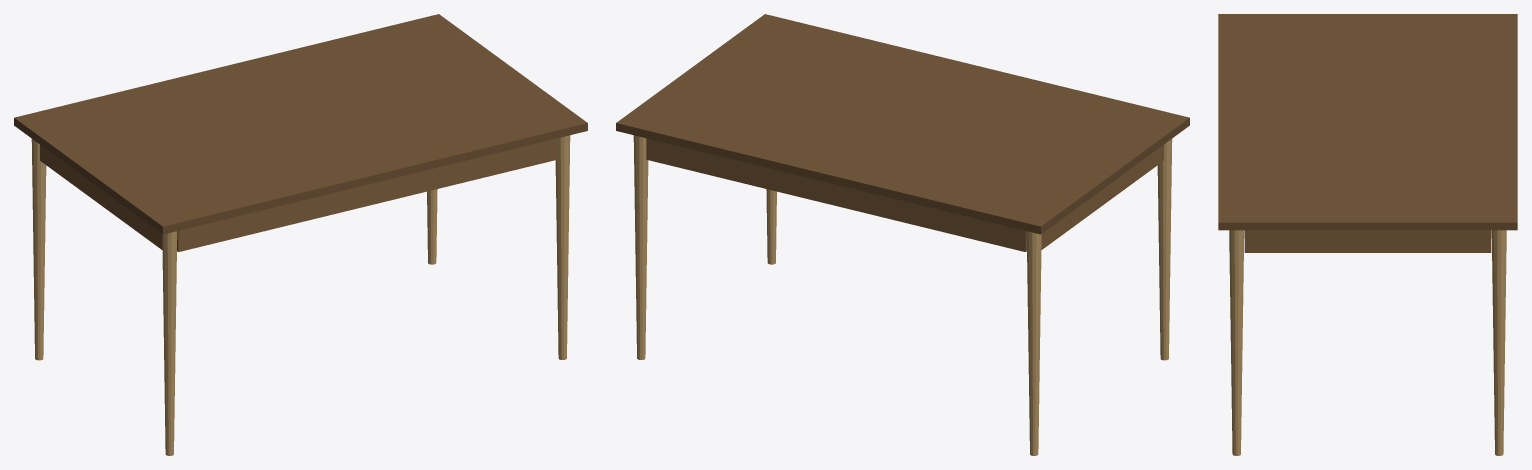
The model's file is ATL-DTB-4-seat.glb.
3 views of the same model, side by side, from view 1: azimuth 30°, elevation 25°; view 2: azimuth 150°, elevation 25°; view 3: azimuth 270°, elevation 25° (orthographic).
Parts seen in each view (by area): view 1: top:pbr, apron-f:pbr, leg-fl:pbr, leg-fr:pbr, leg-bl:pbr, apron-l:pbr, leg-br:pbr; view 2: top:pbr, apron-b:pbr, leg-bl:pbr, leg-br:pbr, leg-fl:pbr, apron-l:pbr, leg-fr:pbr; view 3: top:pbr, apron-r:pbr, leg-fr:pbr, leg-br:pbr.
Part boxes in pixels (x1,y1,x2,y2): top:pbr: (14,14,587,234); apron-f:pbr: (177,138,557,251); leg-fl:pbr: (162,231,177,455); leg-fr:pbr: (555,135,570,359); leg-bl:pbr: (31,139,46,360); apron-l:pbr: (40,145,162,249); leg-br:pbr: (427,189,437,264); top:pbr: (616,14,1189,234); apron-b:pbr: (646,138,1026,251); leg-bl:pbr: (1026,231,1041,455); leg-br:pbr: (633,135,648,359); leg-fl:pbr: (1157,139,1172,360); apron-l:pbr: (1041,145,1163,249); leg-fr:pbr: (766,189,776,264); top:pbr: (1218,14,1517,230); apron-r:pbr: (1244,230,1491,252); leg-fr:pbr: (1229,230,1244,455); leg-br:pbr: (1491,230,1506,455).
Bounding box in the file's own units: 1.4 × 0.75 × 0.85.
